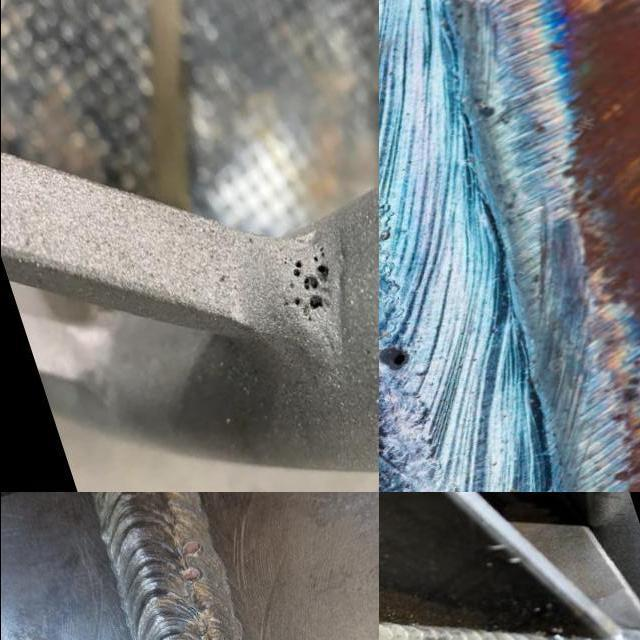defect: (378, 339, 414, 376), (310, 241, 331, 280), (179, 565, 202, 584), (179, 539, 202, 557), (305, 293, 323, 314), (302, 272, 318, 293), (291, 258, 302, 280), (292, 296, 301, 308), (199, 603, 211, 612), (281, 256, 289, 267), (281, 299, 289, 310), (287, 279, 295, 289)
